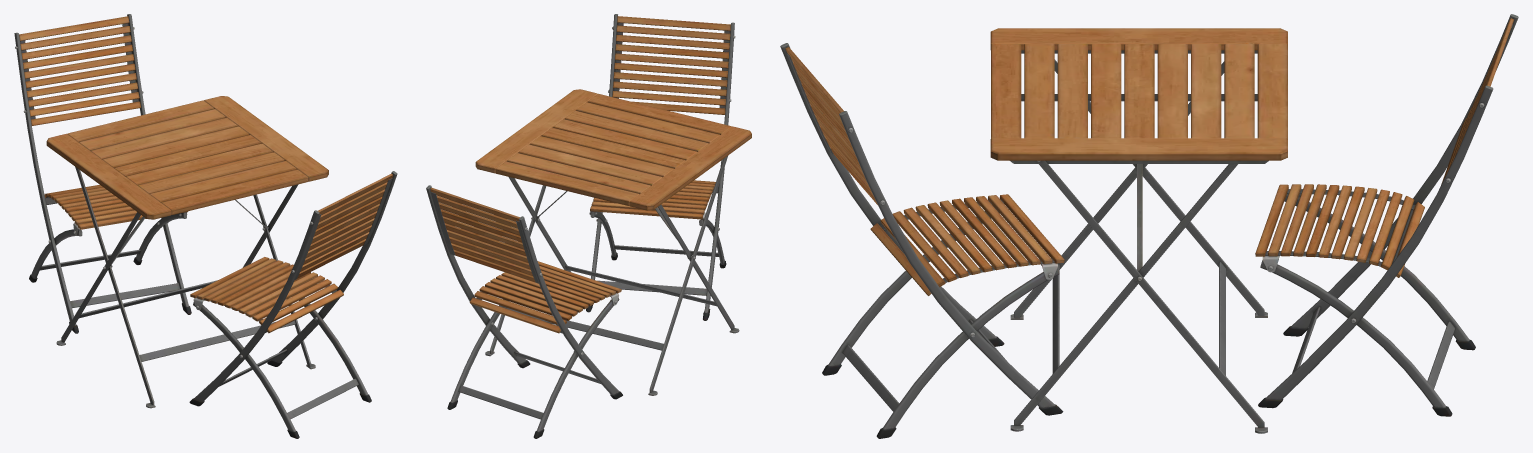
File: outdoor_table_chair_set_01.glb
3 renders of one model, left to right at view 1: azimuth 30°, elevation 25°; view 2: azimuth 150°, elevation 25°; view 3: azimuth 270°, elevation 25°, orthographic. The views are drawn at different scales.
Parts seen in each view (by area): view 1: outdoor_table_chair_set_01_chair_01; view 2: outdoor_table_chair_set_01_chair_01; view 3: outdoor_table_chair_set_01_chair_01.
Part boxes in pixels (bbox=[...]): outdoor_table_chair_set_01_chair_01: bbox=[14, 14, 397, 438]; outdoor_table_chair_set_01_chair_01: bbox=[426, 14, 751, 438]; outdoor_table_chair_set_01_chair_01: bbox=[780, 14, 1518, 438].
Bounding box in the file's own units: 0.7417 × 0.8586 × 1.72.
Materials: 2 (2 with a texture image).
